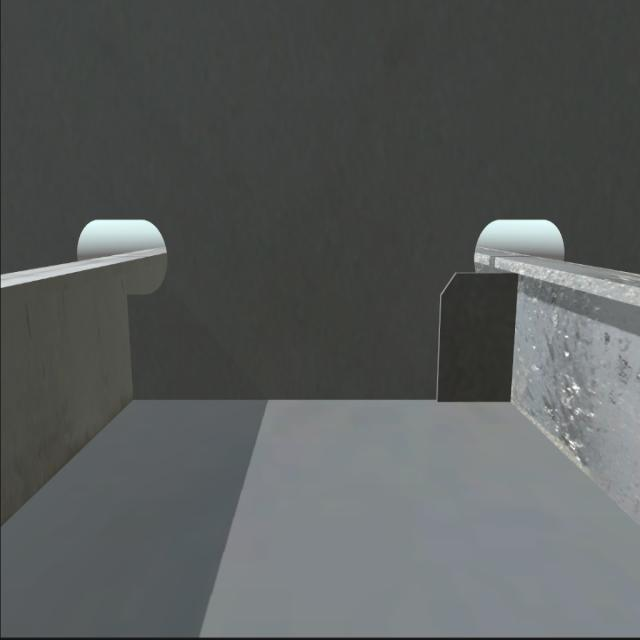fillet_yong_jeop_jang: (128, 390, 514, 410)
longi_yong_jeop_jang: (122, 302, 145, 401), (506, 270, 519, 403)
plate_CP03: (436, 269, 516, 397)
